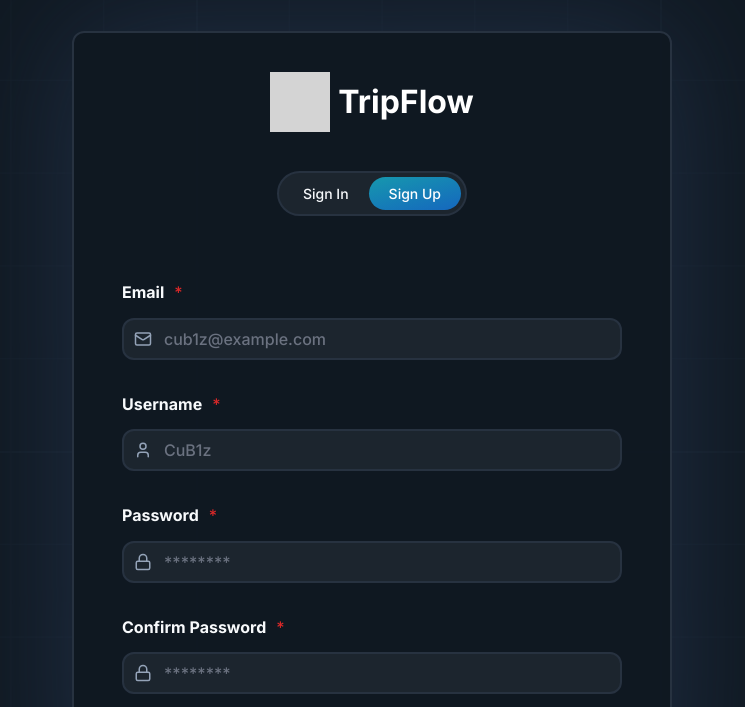
Test: Register Page Validation › shows validation error for empty confirm password
In the field labelled "Username *": (372, 450) [122, 429, 622, 471], type "testuser"
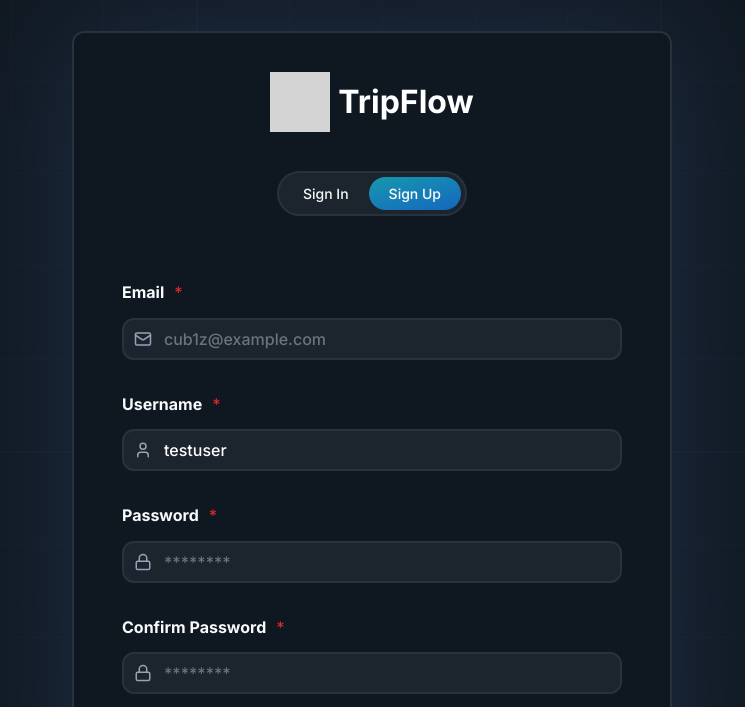
In the password field labelled "Password *": (372, 562) [122, 541, 622, 583], type "password123"
(page scrolled)
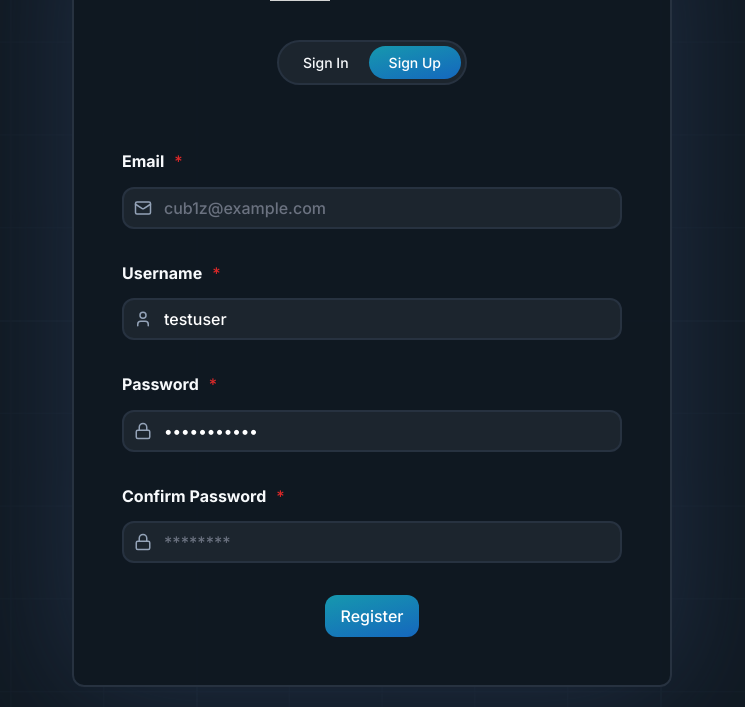
Click the button "Register": (372, 616) [324, 595, 420, 637]
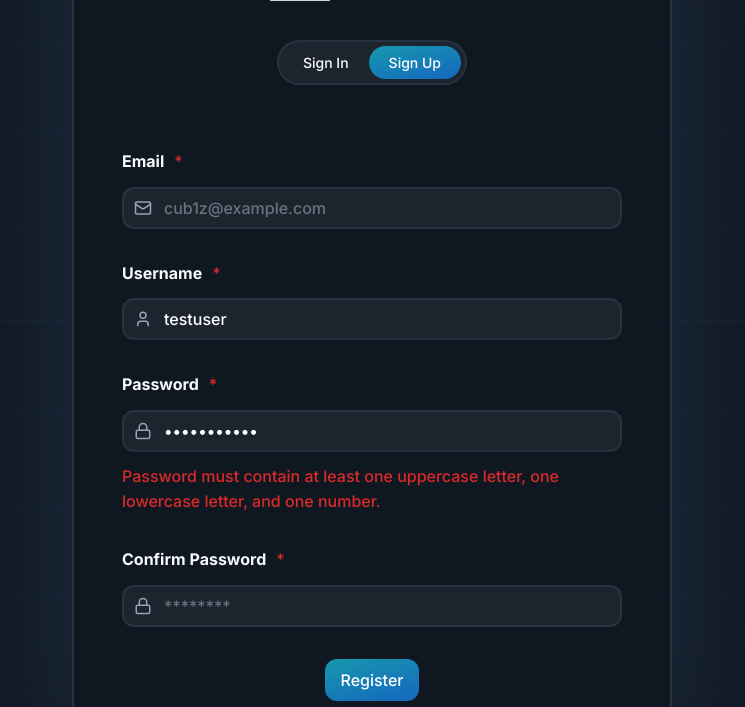
Check: the text "Password must contain at least one uppercase letter, one lowercase letter, and one number." is shown, box [122, 466, 559, 511]
